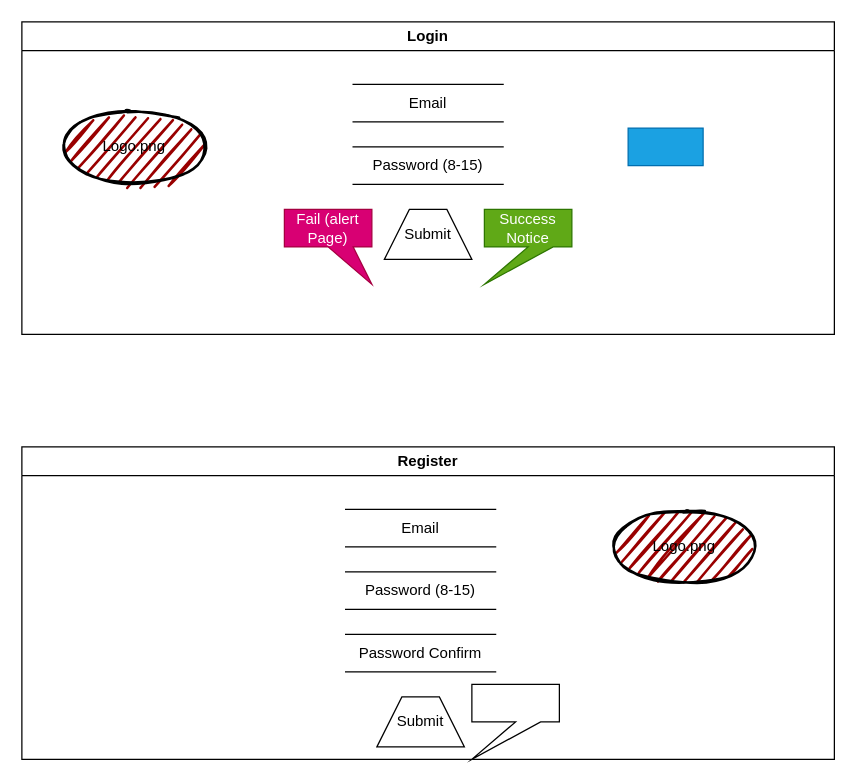
This 856x781 diagram has some shape labels left out. Here are the shapes that lost their labels. From the top down, the centre of each, then its label:
At point 665,146: "3 tries".
At point 515,721: "Email confirm".
